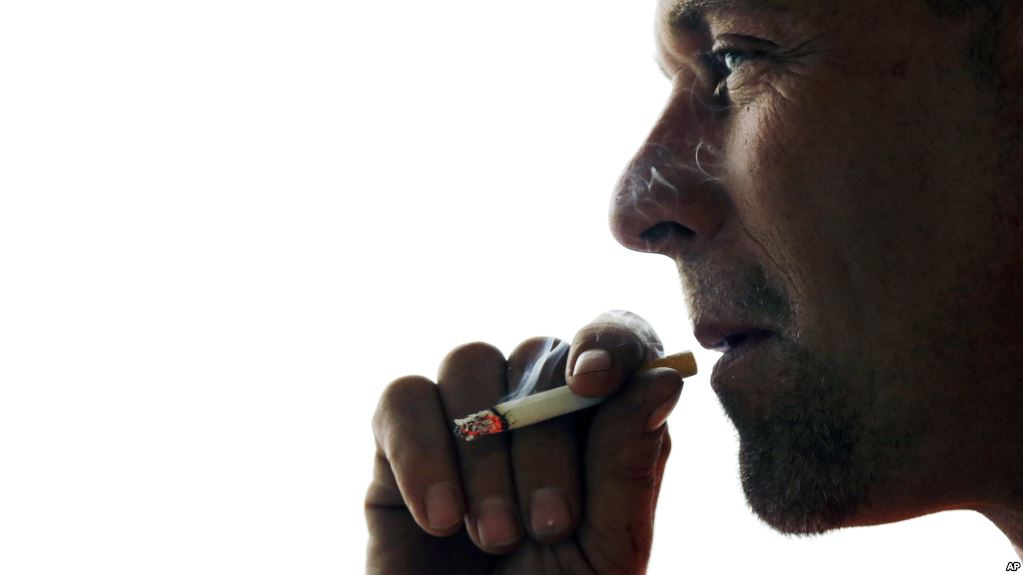cigarette: (424, 338, 703, 458)
